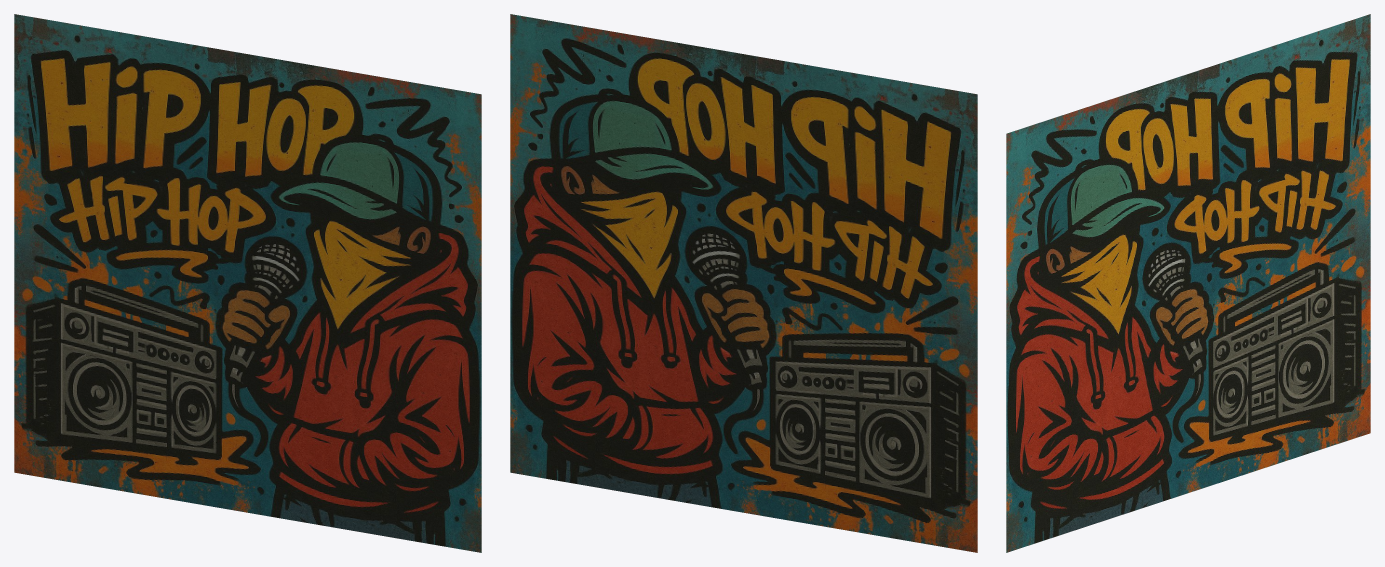
The model's file is image02.glb.
3 renders of one model, left to right at view 1: azimuth 30°, elevation 25°; view 2: azimuth 210°, elevation 25°; view 3: azimuth 270°, elevation 25°, orthographic. The views are drawn at different scales.
Visible parts, largest first — view 1: image02; view 2: image02; view 3: image02.
Part boxes in pixels (box(x1,y1,x2,y2)): image02: box(14, 14, 481, 552); image02: box(510, 14, 977, 552); image02: box(1006, 14, 1370, 552).
Size of the model in its own units: 1.38 by 2.25 by 1.77.
Materials: 1 (1 with a texture image).
